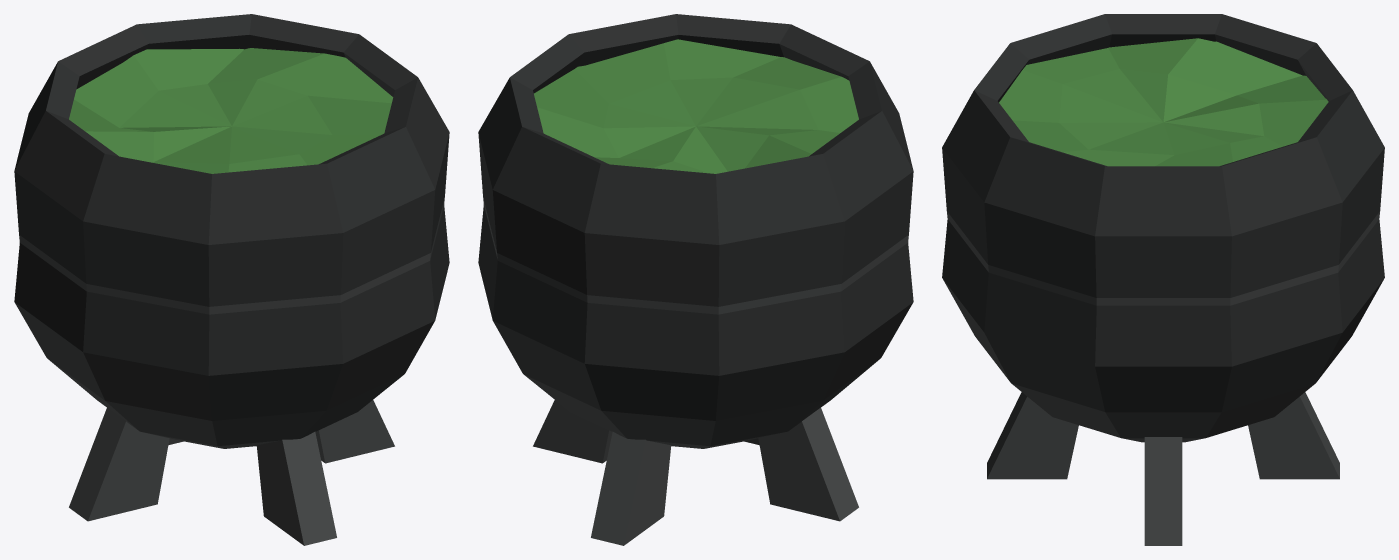
The model's file is Cauldron_4_Black.fbx.
The picture shows the model from 3 angles, left to right: view 1: azimuth 30°, elevation 25°; view 2: azimuth 150°, elevation 25°; view 3: azimuth 270°, elevation 25°; orthographic projection.
Parts seen in each view (by area): view 1: Cauldron_1_Black_Part_1, Cauldron_1_Black_Part_3, Cauldron_1_Black_Part_2; view 2: Cauldron_1_Black_Part_1, Cauldron_1_Black_Part_3, Cauldron_1_Black_Part_2; view 3: Cauldron_1_Black_Part_1, Cauldron_1_Black_Part_3, Cauldron_1_Black_Part_2.
Part boxes in pixels (<box>): Cauldron_1_Black_Part_1: <box>14,14,449,448</box>; Cauldron_1_Black_Part_3: <box>69,48,393,173</box>; Cauldron_1_Black_Part_2: <box>19,197,444,545</box>; Cauldron_1_Black_Part_1: <box>478,14,913,448</box>; Cauldron_1_Black_Part_3: <box>534,39,858,173</box>; Cauldron_1_Black_Part_2: <box>483,197,908,545</box>; Cauldron_1_Black_Part_1: <box>942,14,1384,442</box>; Cauldron_1_Black_Part_3: <box>999,38,1328,166</box>; Cauldron_1_Black_Part_2: <box>947,211,1379,545</box>.
Bounding box in the file's own units: 95.89 × 95.75 × 101.
